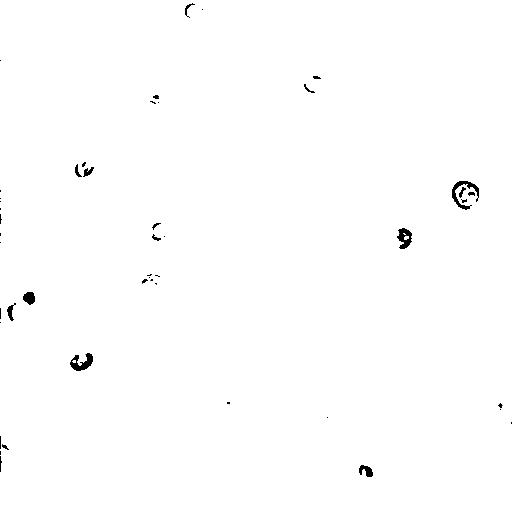micro-algae: (343, 5, 405, 73), (214, 374, 257, 416), (9, 275, 48, 311), (0, 294, 36, 327), (451, 181, 481, 210), (133, 275, 165, 300), (483, 395, 511, 423), (65, 349, 96, 372), (1, 436, 19, 470), (391, 227, 413, 251), (74, 157, 94, 180), (147, 221, 169, 241), (303, 73, 323, 93), (183, 1, 205, 19), (501, 407, 512, 441), (357, 463, 375, 479)
